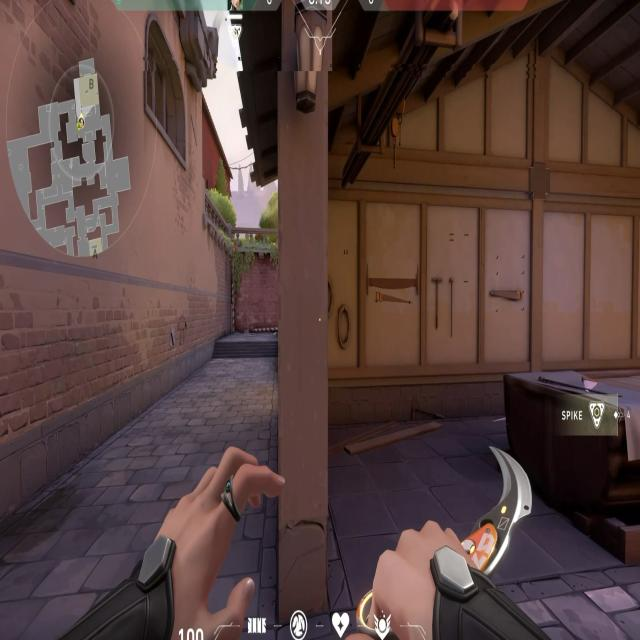Throwables: (146, 7, 188, 177)
